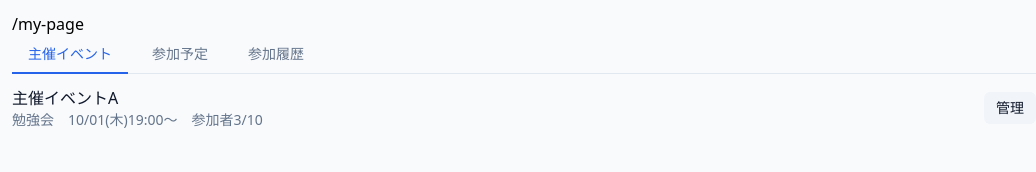
Test case: MyPageTabs › 「参加予定」タブクリックでURLを変えずにローカル状態のみで参加予定イベントが表示されること
Click the button "参加予定" at (180, 55), box 136,36 -> 224,74
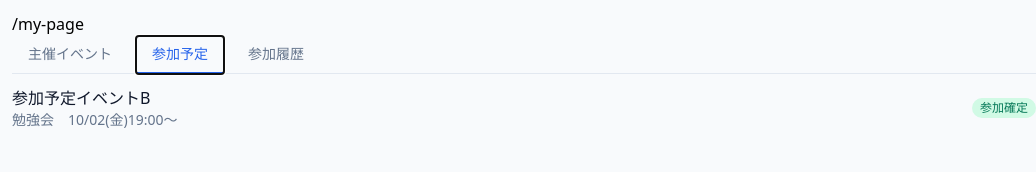
Expected: the text with test id "location-probe" reads "/my-page", 12,13 -> 84,35
Expected: the text "参加予定イベントB" is shown, 12,87 -> 150,109
Expected: the text "主催イベントA" is gone
